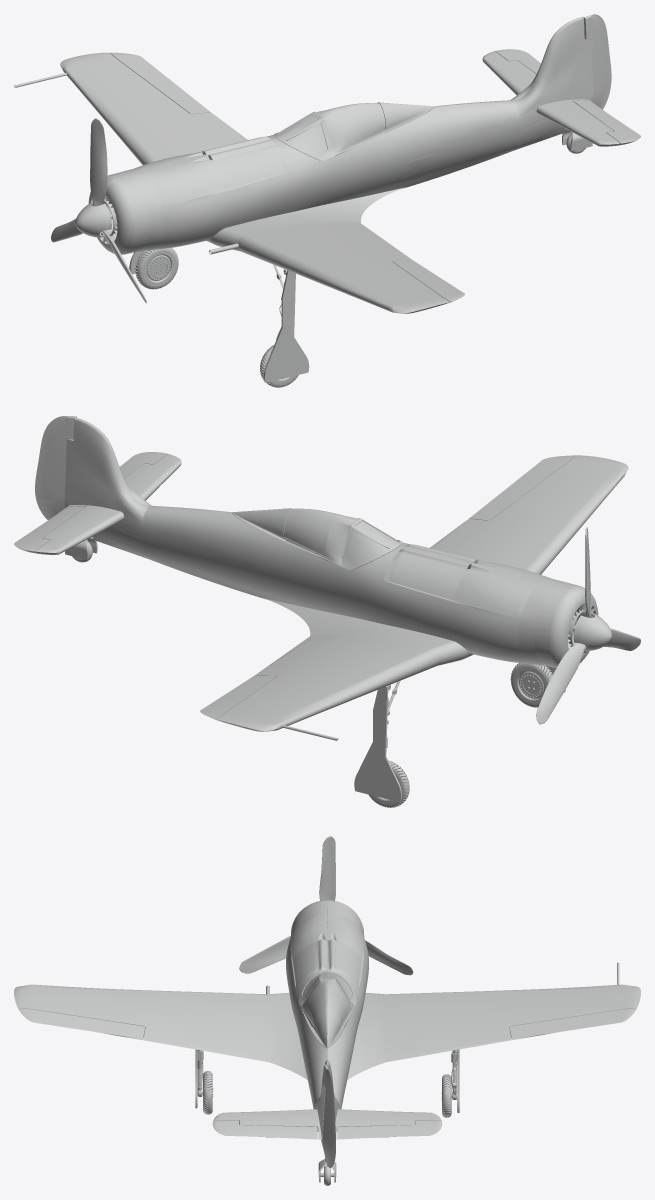
Rendered from airplane_2ae974bf.glb.
The picture shows the model from 3 angles, top to bottom: view 1: azimuth 30°, elevation 25°; view 2: azimuth 150°, elevation 25°; view 3: azimuth 270°, elevation 25°; orthographic projection. The views are drawn at different scales.
Visible parts, largest first — view 1: Object_2, Object_3; view 2: Object_2, Object_3; view 3: Object_2, Object_3.
Part boxes in pixels (x1,y1,x2,y2): Object_2: (14,14,640,387); Object_3: (129,248,178,288); Object_2: (14,416,640,807); Object_3: (354,680,409,803); Object_2: (14,836,640,1185); Object_3: (441,1049,459,1117).
Size of the model in its own units: 7.41 by 3.24 by 8.21.
Materials: 1 (1 with a texture image).
